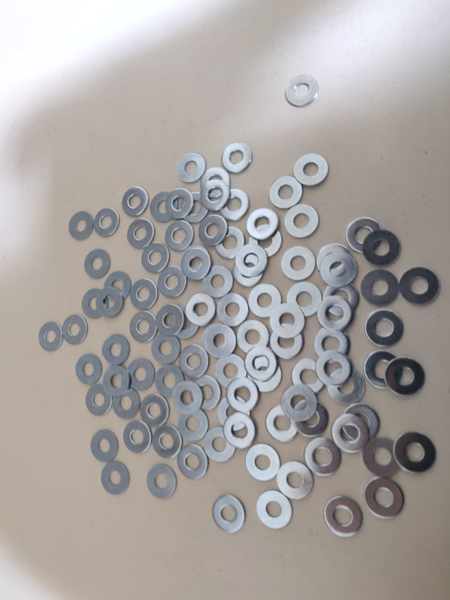circle: (394, 434, 437, 473), (324, 496, 364, 537), (364, 478, 404, 518), (385, 358, 426, 397), (363, 438, 403, 477), (364, 350, 403, 389), (332, 414, 370, 454), (304, 437, 342, 477), (400, 268, 440, 305), (257, 490, 293, 531), (278, 461, 315, 500), (343, 403, 380, 442), (365, 310, 404, 346), (362, 270, 399, 306), (321, 252, 358, 288), (292, 400, 328, 437), (316, 351, 352, 388), (328, 369, 365, 405), (282, 385, 317, 423), (348, 218, 384, 254), (315, 326, 351, 362), (364, 231, 401, 266), (246, 444, 281, 481), (246, 358, 283, 393), (288, 282, 323, 318), (212, 495, 245, 533), (266, 405, 299, 443), (282, 246, 317, 281), (318, 296, 353, 331), (225, 378, 260, 413), (284, 204, 320, 238), (224, 413, 258, 449), (324, 283, 360, 317), (271, 304, 306, 338), (292, 359, 326, 394), (203, 324, 237, 358), (215, 354, 248, 389), (205, 427, 238, 462), (271, 323, 303, 359), (318, 243, 350, 279), (294, 154, 329, 186), (270, 176, 303, 209), (250, 284, 283, 317), (237, 320, 270, 353), (235, 245, 269, 277), (249, 225, 283, 257), (190, 376, 222, 410), (147, 464, 177, 500), (286, 75, 319, 107), (217, 293, 249, 326), (172, 381, 204, 414), (177, 445, 208, 479), (246, 208, 278, 240), (185, 294, 217, 326), (233, 254, 264, 287), (215, 227, 246, 259), (126, 359, 156, 392), (101, 462, 131, 495), (180, 345, 210, 378), (222, 143, 253, 174), (140, 395, 170, 427), (158, 266, 188, 298), (177, 153, 207, 184), (200, 180, 230, 211), (199, 215, 229, 246), (200, 167, 230, 198), (203, 266, 233, 297), (220, 190, 251, 220), (179, 409, 208, 441), (124, 421, 152, 454), (153, 426, 181, 459), (165, 220, 194, 251), (165, 188, 194, 219), (156, 305, 185, 336), (170, 308, 199, 339), (111, 388, 140, 419), (130, 311, 158, 343), (103, 366, 131, 398), (91, 431, 119, 463), (156, 365, 184, 397), (150, 192, 179, 222), (142, 243, 170, 274), (181, 192, 209, 223), (82, 289, 110, 320), (130, 279, 158, 310), (182, 250, 211, 279), (181, 246, 210, 275), (152, 336, 181, 365), (103, 335, 131, 365), (97, 287, 124, 318), (86, 384, 112, 416), (84, 249, 111, 279), (104, 271, 131, 301), (76, 355, 103, 385), (123, 187, 149, 218), (94, 208, 120, 238), (62, 315, 88, 344), (128, 219, 154, 248), (69, 212, 94, 240), (39, 322, 62, 352)
